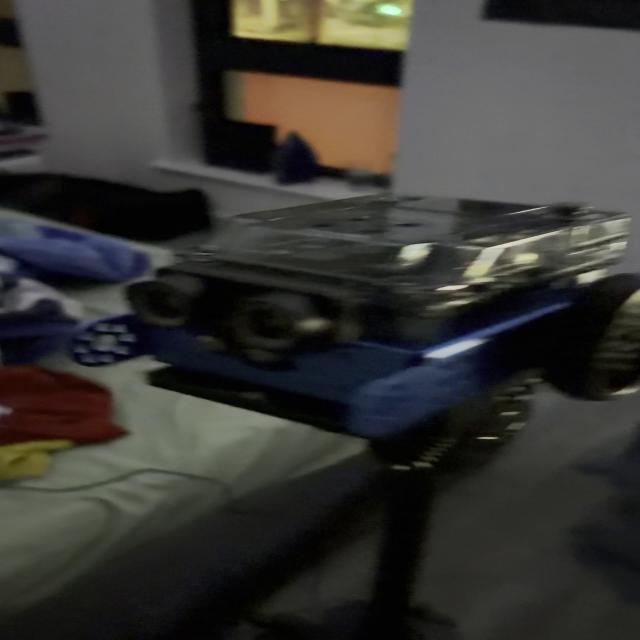mbot-detection: (56, 180, 640, 443)
